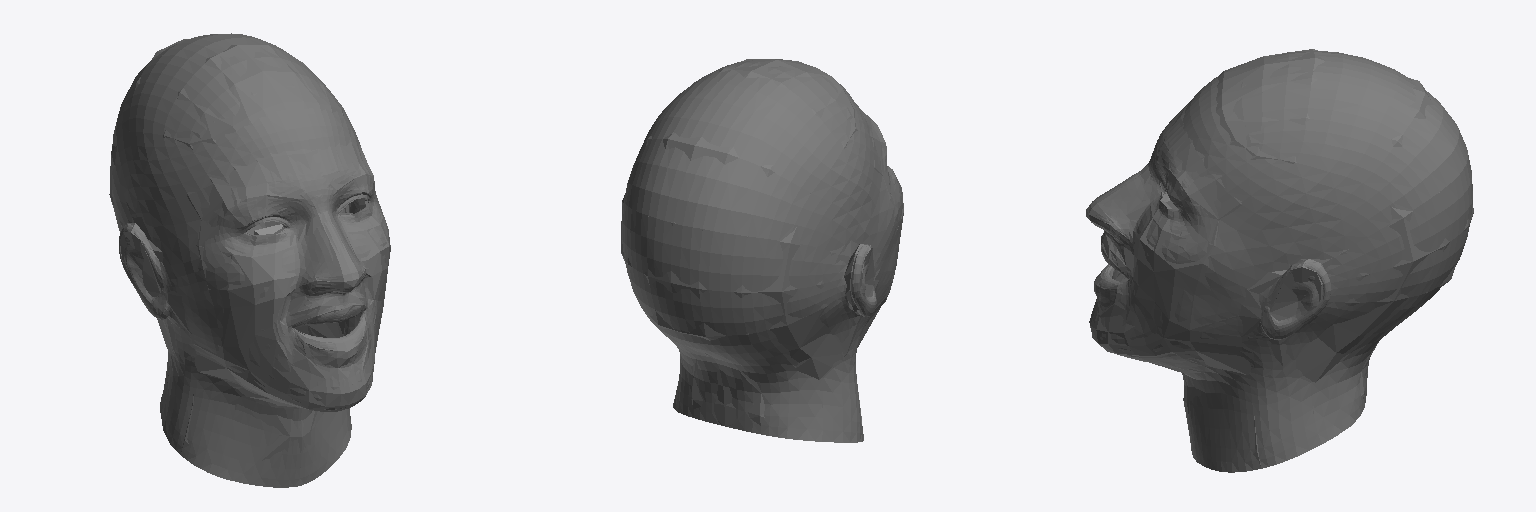
File: my_happ.obj
3 views of the same model, side by side, from view 1: azimuth 30°, elevation 25°; view 2: azimuth 150°, elevation 25°; view 3: azimuth 270°, elevation 25° (orthographic).
Parts seen in each view (by area): view 1: skin_hi.001, skin_lo.001; view 2: skin_hi.001, skin_lo.001; view 3: skin_hi.001, skin_lo.001.
Part boxes in pixels (bbox=[...]): skin_hi.001: bbox=[112, 33, 389, 487]; skin_lo.001: bbox=[109, 39, 390, 467]; skin_hi.001: bbox=[622, 60, 902, 442]; skin_lo.001: bbox=[621, 59, 903, 426]; skin_hi.001: bbox=[1093, 51, 1472, 472]; skin_lo.001: bbox=[1086, 49, 1473, 465].
Size of the model in its own units: 15.2 by 24.88 by 22.09.